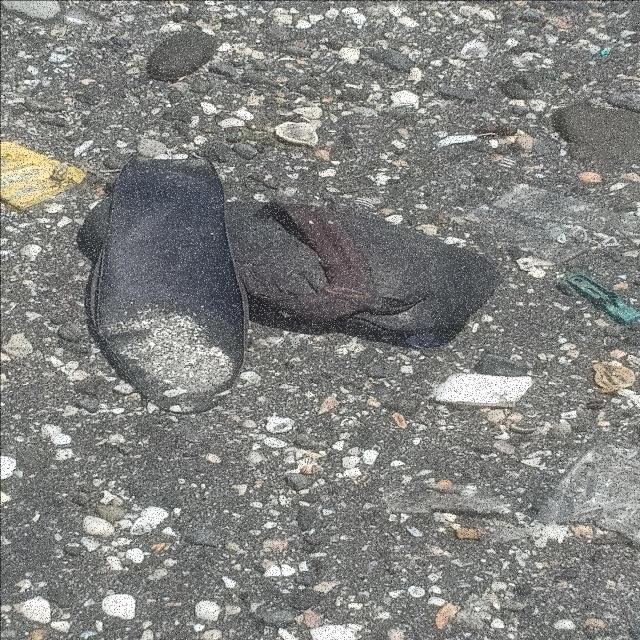plastic_waste: (1, 141, 87, 210)
rubber_waste: (88, 155, 254, 416), (226, 201, 502, 337)
